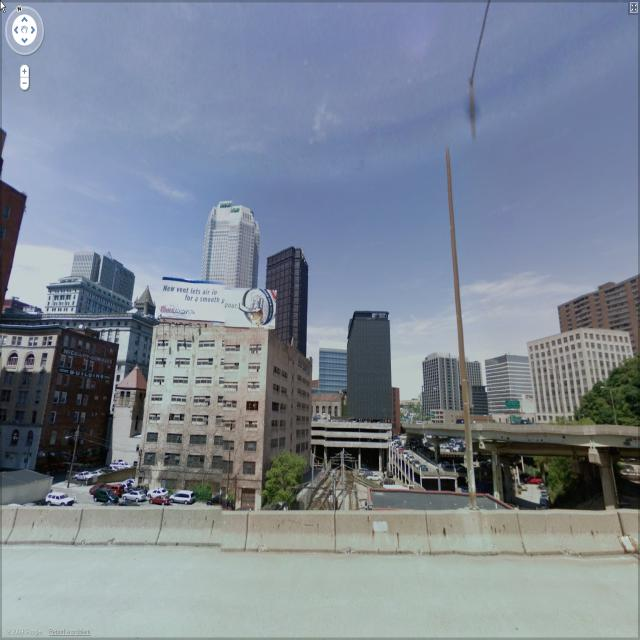b_1: (127, 322, 317, 508), (1, 332, 117, 482), (184, 180, 268, 296), (532, 334, 636, 405), (40, 252, 144, 316), (264, 248, 316, 360), (346, 307, 393, 427), (562, 280, 640, 350), (0, 136, 32, 304), (419, 342, 485, 414), (482, 344, 538, 417), (309, 348, 363, 410)
